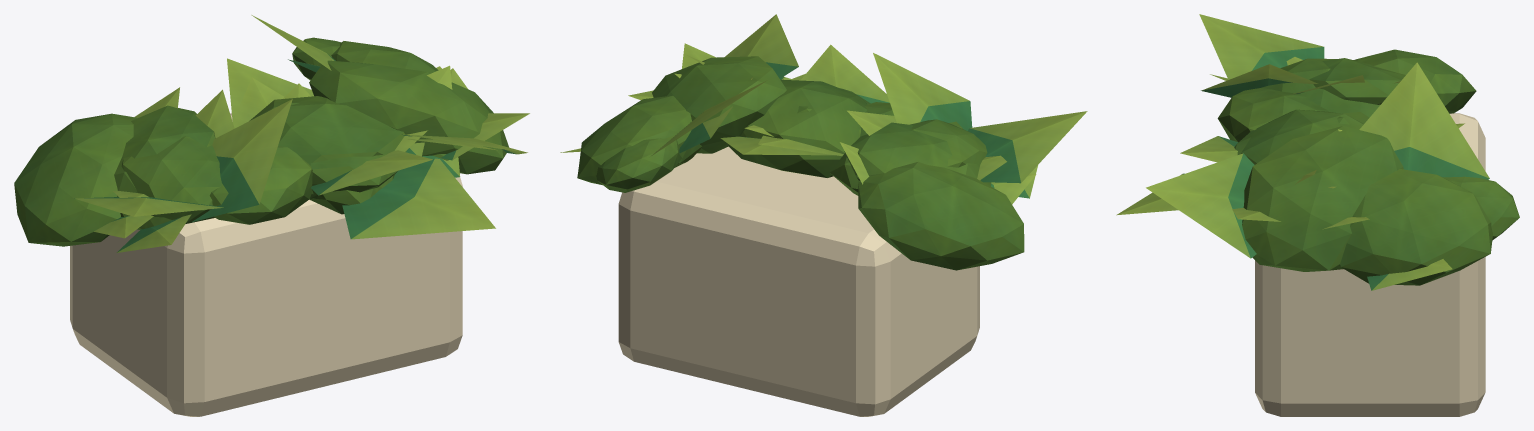
File: kit_stone_block.glb
3 renders of one model, left to right at view 1: azimuth 30°, elevation 25°; view 2: azimuth 150°, elevation 25°; view 3: azimuth 270°, elevation 25°, orthographic. The views are drawn at different scales.
Visible parts, largest first — view 1: Dressed limestone, Woodland shared moss cushion.064, Woodland shared moss cushion.071, Woodland shared curved ivy leaf.145, Woodland shared moss cushion.063, Woodland shared moss cushion.069, Woodland shared curved ivy leaf.155, Woodland shared moss cushion.065, Woodland shared moss cushion.073, Woodland shared moss cushion.068, Woodland shared curved ivy leaf.152, Woodland shared curved ivy leaf.159 (+12 smaller); view 2: Dressed limestone, Woodland shared moss cushion.064, Woodland shared moss cushion.063, Woodland shared moss cushion.071, Woodland shared moss cushion.068, Woodland shared curved ivy leaf.159, Woodland shared curved ivy leaf.155, Woodland shared moss cushion.073, Woodland shared moss cushion.070, Woodland shared moss cushion.069, Woodland shared curved ivy leaf.152, Woodland shared curved ivy leaf.163 (+6 smaller); view 3: Dressed limestone, Woodland shared moss cushion.071, Woodland shared moss cushion.068, Woodland shared curved ivy leaf.156, Woodland shared curved ivy leaf.163, Woodland shared curved ivy leaf.159, Woodland shared moss cushion.065, Woodland shared moss cushion.064, Woodland shared moss cushion.063, Woodland shared moss cushion.073, Woodland shared moss cushion.069, Woodland shared moss cushion.070 (+5 smaller).
Boxes of the visible parts, x1,y1,x2,y2 form: Dressed limestone: (70,113,462,416); Woodland shared moss cushion.064: (14,113,136,246); Woodland shared moss cushion.071: (309,60,508,174); Woodland shared curved ivy leaf.145: (342,158,495,239); Woodland shared moss cushion.063: (249,96,406,194); Woodland shared moss cushion.069: (121,136,221,223); Woodland shared curved ivy leaf.155: (191,99,292,222); Woodland shared moss cushion.065: (209,145,312,224); Woodland shared moss cushion.073: (114,105,215,229); Woodland shared moss cushion.068: (331,41,438,73); Woodland shared curved ivy leaf.152: (311,150,432,195); Woodland shared curved ivy leaf.159: (74,197,223,216); Dressed limestone: (618,146,979,416); Woodland shared moss cushion.064: (858,162,1024,270); Woodland shared moss cushion.063: (727,79,867,177); Woodland shared moss cushion.071: (652,56,786,153); Woodland shared moss cushion.068: (577,95,702,185); Woodland shared curved ivy leaf.159: (968,111,1087,183); Woodland shared curved ivy leaf.155: (873,53,972,130); Woodland shared moss cushion.073: (844,122,991,186); Woodland shared moss cushion.070: (596,135,682,192); Woodland shared moss cushion.069: (829,119,987,195); Woodland shared curved ivy leaf.152: (800,44,889,103); Woodland shared curved ivy leaf.163: (724,14,798,78); Dressed limestone: (1255,113,1485,416); Woodland shared moss cushion.071: (1242,126,1403,271); Woodland shared moss cushion.068: (1339,169,1492,285); Woodland shared curved ivy leaf.156: (1359,62,1489,179); Woodland shared curved ivy leaf.163: (1146,153,1256,258); Woodland shared curved ivy leaf.159: (1199,14,1324,79); Woodland shared moss cushion.065: (1217,88,1328,142); Woodland shared moss cushion.064: (1353,49,1476,113); Woodland shared moss cushion.063: (1241,109,1363,164); Woodland shared moss cushion.073: (1309,58,1405,104); Woodland shared moss cushion.069: (1261,58,1380,123); Woodland shared moss cushion.070: (1443,176,1519,240).
Size of the model in its own units: 0.674 by 0.4466 by 0.543.
Materials: 4 (3 with a texture image).
